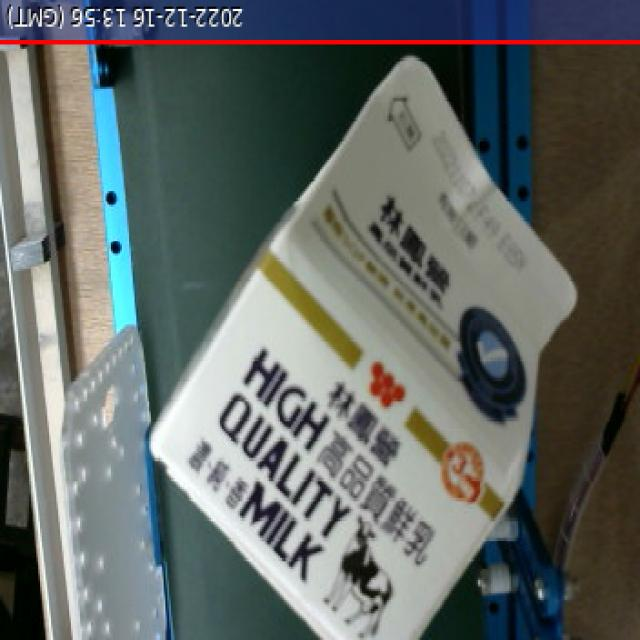non_white_jug: (130, 34, 595, 640)
